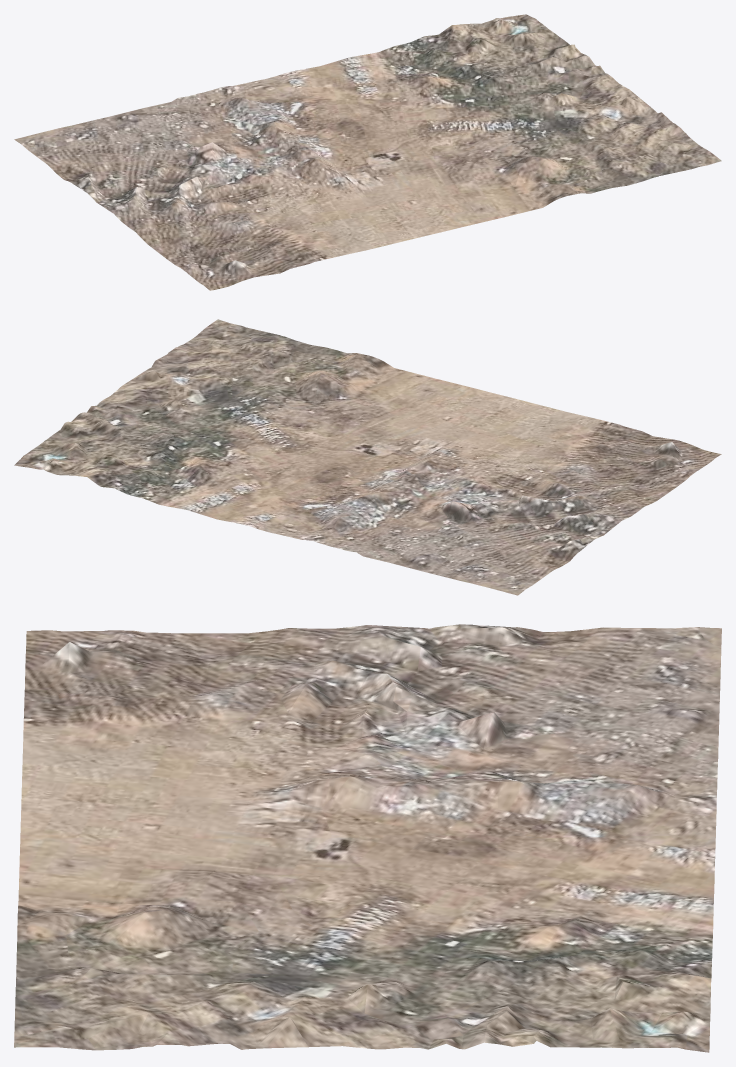
The model's file is Tile_+009_+007_L20_0uuuu30.glb.
3 renders of one model, top to bottom at view 1: azimuth 30°, elevation 25°; view 2: azimuth 150°, elevation 25°; view 3: azimuth 270°, elevation 25°, orthographic. The views are drawn at different scales.
Parts seen in each view (by area): view 1: rtc; view 2: rtc; view 3: rtc.
Part boxes in pixels (left/top/right/bottom): rtc: left=14, top=14, right=721, bottom=290; rtc: left=14, top=319, right=721, bottom=595; rtc: left=14, top=624, right=721, bottom=1052.
Size of the model in its own units: 27.67 by 1.05 by 19.05.
2 materials, 2 textured.
